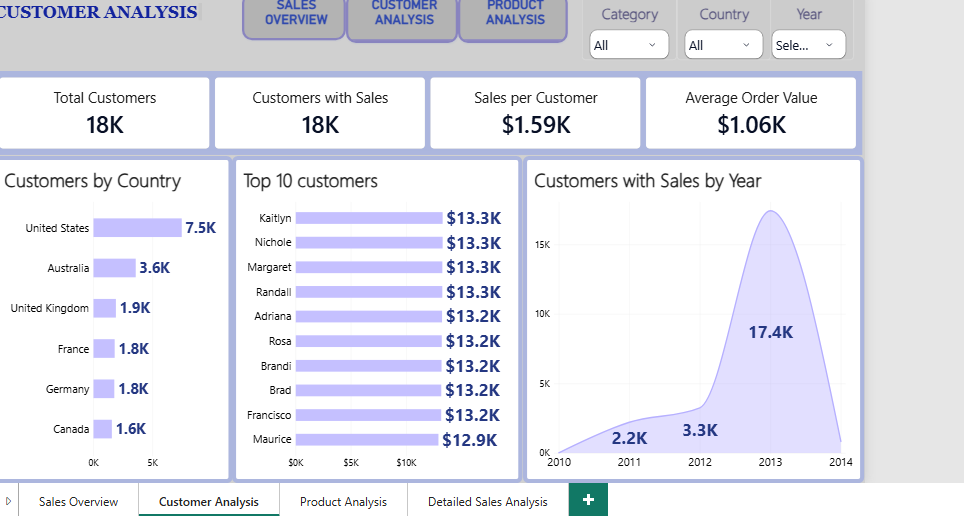

This screenshot's page, from the dashboard's own definition file:
{"tool":"powerbi","page":{"name":"Customer Analysis","canvas":[1920,1080],"ordinal":1},"visuals":[{"type":"actionButton","title":"SALES OVERVIEW","box":[548.8,0,229.2,103.6],"z":0},{"type":"actionButton","title":"CUSTOMER ANALYSIS","box":[778,0,246.9,110.2],"z":1000},{"type":"actionButton","title":"PRODUCT ANALYSIS","box":[1024.9,0,242.4,110.2],"z":2000},{"type":"textbox","box":[0,22,460.7,55.1],"z":3000},{"type":"listSlicer","fields":{"Values":["DimDate.Year"]},"box":[1699.3,6.6,198.4,141.1],"z":4000},{"type":"listSlicer","fields":{"Values":["DimCustomers.Country"]},"box":[1507.6,6.6,207.2,141.1],"z":5000},{"type":"listSlicer","fields":{"Values":["DimProducts.Category"]},"box":[1298.2,6.6,209.4,141.1],"z":6000},{"type":"cardVisual","fields":{"Data":["MeasuesTable.Total Customers","MeasuesTable.Customers with Sales","MeasuesTable.Sales per Customer","MeasuesTable.Average Order Value"]},"box":[0,171.9,1919.8,185.1],"z":7000},{"type":"barChart","title":"Customers by Country","fields":{"Category":["DimCustomers.Country"],"Y":["MeasuesTable.Customers with Sales"]},"box":[0,358.2,527.8,721.2],"z":8000},{"type":"barChart","title":"Top 10 customers","fields":{"Category":["DimCustomers.First Name"],"Y":["MeasuesTable.Total Sales"]},"box":[527.8,358.2,640,721.2],"z":9000},{"type":"stackedAreaChart","fields":{"Category":["DimDate.Year"],"Y":["MeasuesTable.Customers with Sales"]},"box":[1168.2,359.3,751.6,720.7],"z":10000}]}

Visuals, with their boxes on the page's 1920x1080 design canvas (x1, y1, x2, y2). These are canvas units, not pixel positions in the 964x516 screenshot, which may show the page scaled, cropped or inside an application window:
"SALES OVERVIEW" actionButton: <region>549, 0, 778, 104</region>
"CUSTOMER ANALYSIS" actionButton: <region>778, 0, 1025, 110</region>
"PRODUCT ANALYSIS" actionButton: <region>1025, 0, 1267, 110</region>
textbox: <region>0, 22, 461, 77</region>
listSlicer - DimDate.Year: <region>1699, 7, 1898, 148</region>
listSlicer - DimCustomers.Country: <region>1508, 7, 1715, 148</region>
listSlicer - DimProducts.Category: <region>1298, 7, 1508, 148</region>
cardVisual - MeasuesTable.Total Customers x MeasuesTable.Customers with Sales: <region>0, 172, 1920, 357</region>
"Customers by Country" barChart: <region>0, 358, 528, 1079</region>
"Top 10 customers" barChart: <region>528, 358, 1168, 1079</region>
stackedAreaChart - DimDate.Year x MeasuesTable.Customers with Sales: <region>1168, 359, 1920, 1080</region>
